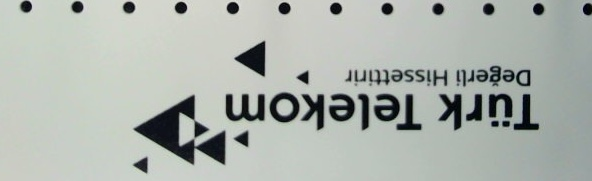AQ_TURKTelekom: (120, 40, 541, 173)
